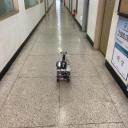cart: (56, 61, 71, 83)
